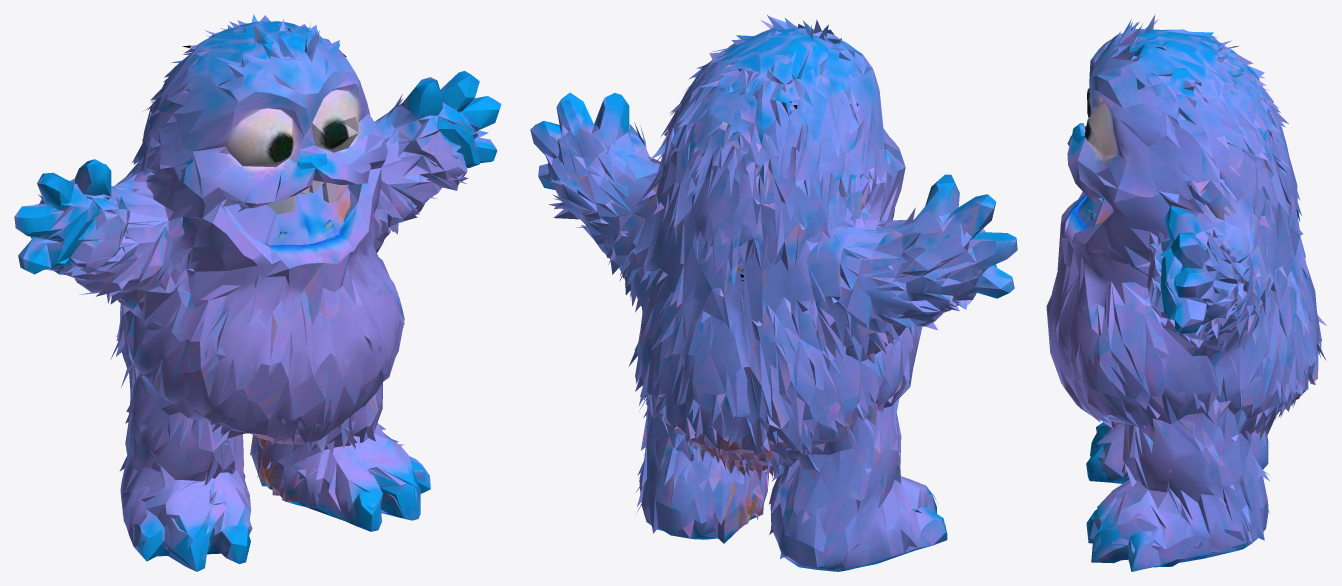
File: momo.da5f5b4e.glb
The picture shows the model from 3 angles, left to right: view 1: azimuth 30°, elevation 25°; view 2: azimuth 150°, elevation 25°; view 3: azimuth 270°, elevation 25°; orthographic projection. The views are drawn at different scales.
Visible parts, largest first — view 1: output_unwrapped; view 2: output_unwrapped; view 3: output_unwrapped.
Boxes of the visible parts, box(x1,y1,x2,y2) form: output_unwrapped: box(14, 14, 501, 571); output_unwrapped: box(530, 15, 1017, 571); output_unwrapped: box(1046, 14, 1326, 571).
Size of the model in its own units: 1.89 by 1.88 by 0.983.
Materials: 1 (1 with a texture image).
